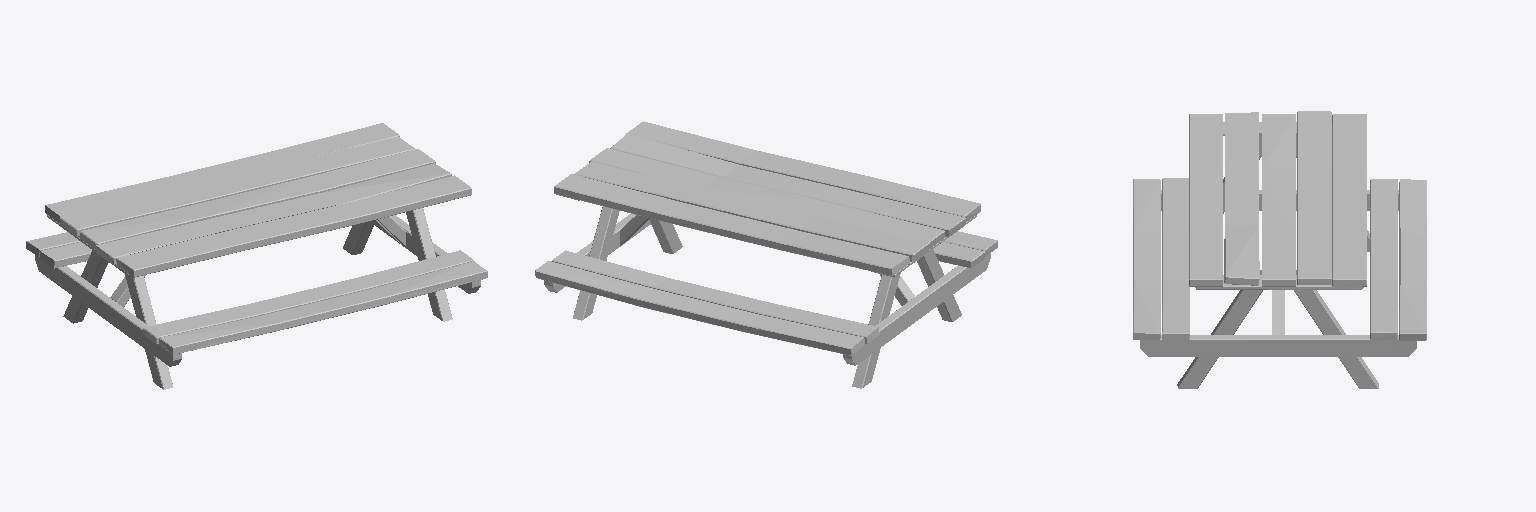
3 views of the same model, side by side, from view 1: azimuth 30°, elevation 25°; view 2: azimuth 150°, elevation 25°; view 3: azimuth 270°, elevation 25° (orthographic).
Visible parts, largest first — view 1: picnic_table; view 2: picnic_table; view 3: picnic_table.
Part boxes in pixels (x1,y1,x2,y2): picnic_table: (26, 123, 487, 389); picnic_table: (535, 121, 997, 388); picnic_table: (1133, 111, 1426, 388).
Bounding box in the file's own units: 152 × 52.33 × 113.